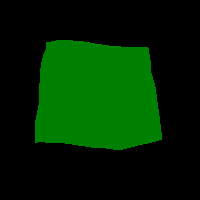mutande: (35, 39, 162, 150)
